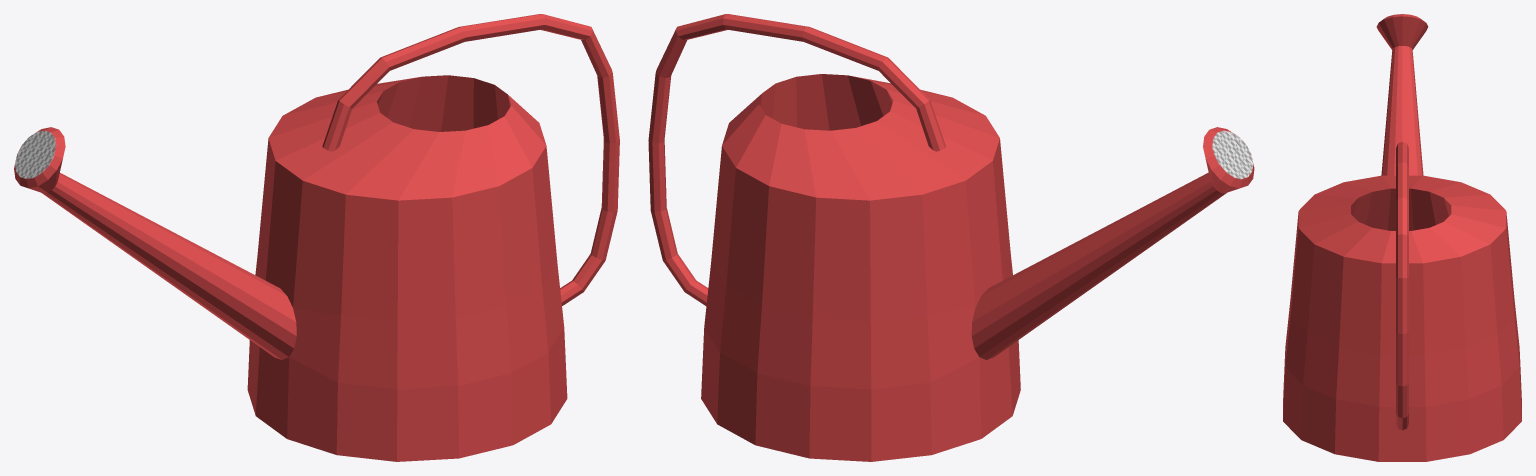
The model's file is watering_can.fbx.
3 renders of one model, left to right at view 1: azimuth 30°, elevation 25°; view 2: azimuth 150°, elevation 25°; view 3: azimuth 270°, elevation 25°, orthographic. The views are drawn at different scales.
Visible parts, largest first — view 1: watering_can_baked; view 2: watering_can_baked; view 3: watering_can_baked.
Boxes of the visible parts, <box> form: watering_can_baked: <box>14,14,619,461</box>; watering_can_baked: <box>648,14,1254,461</box>; watering_can_baked: <box>1283,14,1521,461</box>.
Size of the model in its own units: 41.33 by 23.36 by 18.78.
Materials: 1 (1 with a texture image).
